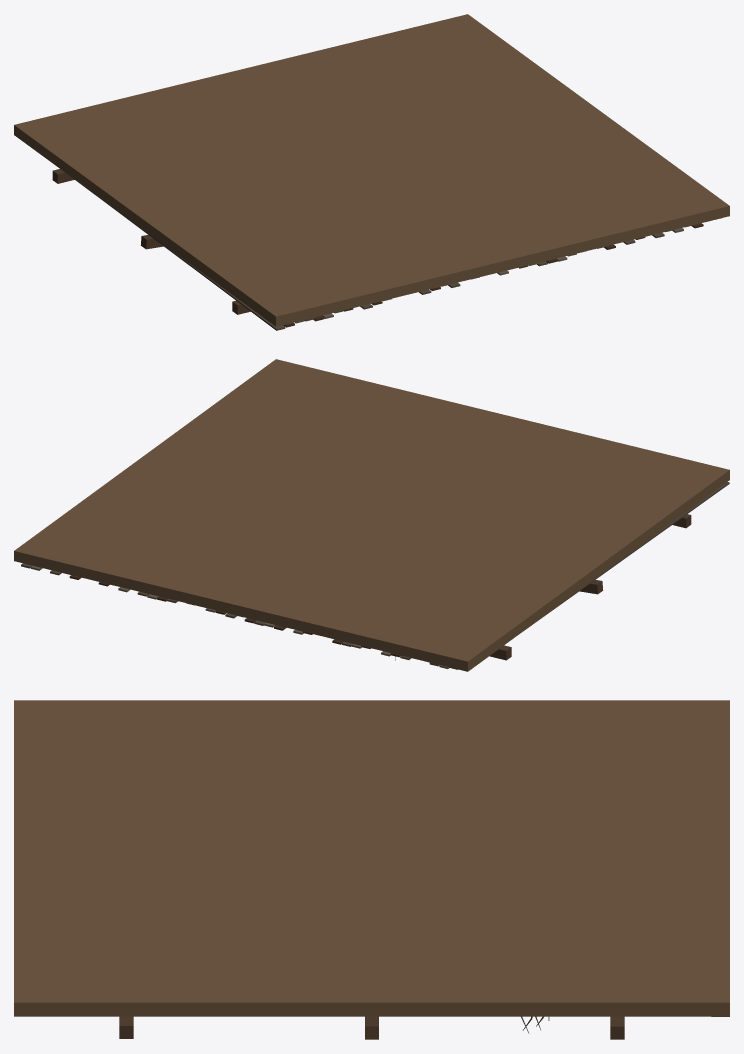
File: TownCeiling.glb
3 renders of one model, top to bottom at view 1: azimuth 30°, elevation 25°; view 2: azimuth 150°, elevation 25°; view 3: azimuth 270°, elevation 25°, orthographic. The views are drawn at different scales.
Visible parts, largest first — view 1: TownCeiling.001; view 2: TownCeiling.001; view 3: TownCeiling.001.
Boxes of the visible parts, x1,y1,x2,y2 form: TownCeiling.001: (14, 14, 729, 330); TownCeiling.001: (14, 359, 729, 671); TownCeiling.001: (14, 700, 729, 1039).
Size of the model in its own units: 14.1 by 2 by 14.
